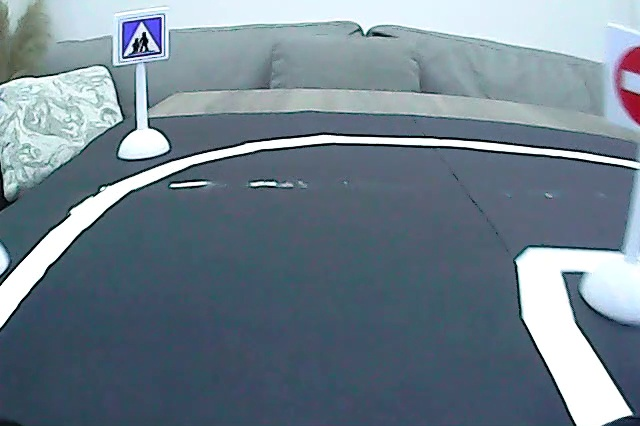school crossing: (116, 14, 166, 62)
